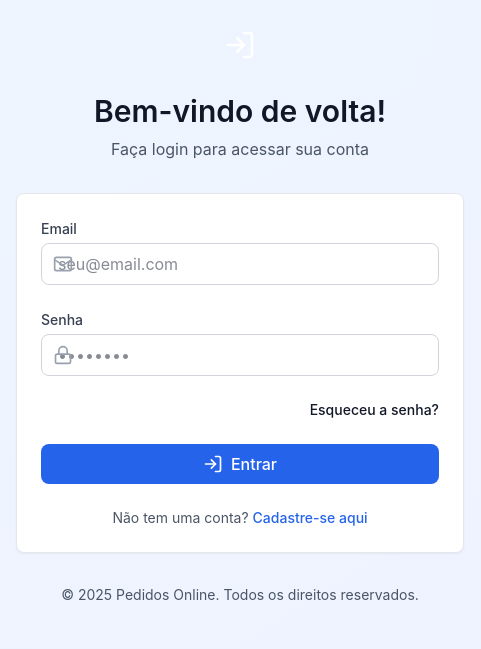
Scenario: Login Component › Validação de formulário › deve limpar erro do campo ao digitar
# Trigger validation error
Click the button "Entrar" at (240, 464), box 41,444 -> 439,484
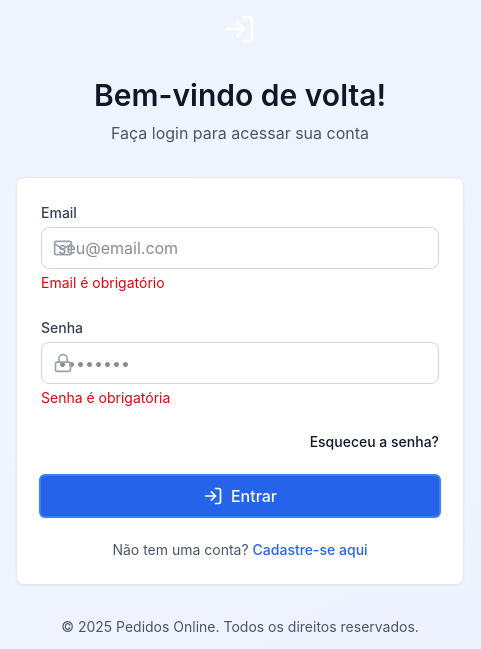
Now the text "Email é obrigatório" is shown, box 41,274 -> 165,291
# Digitar no campo deve limpar o erro
Type "test@example.com" into the field labelled "Email" at (240, 248), box 41,227 -> 439,269
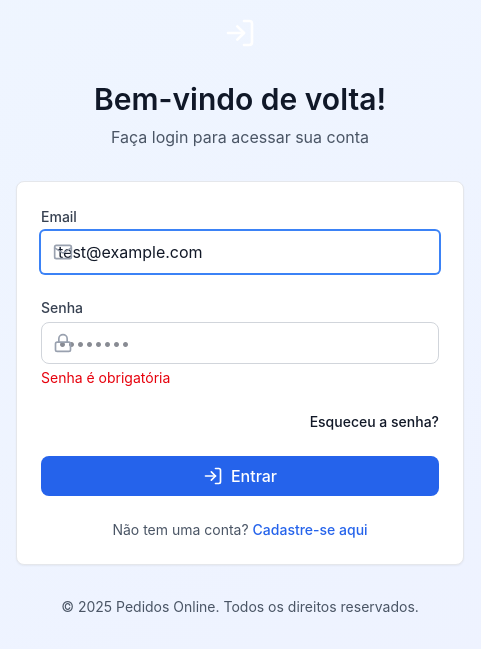
Now the text "Email é obrigatório" is gone
